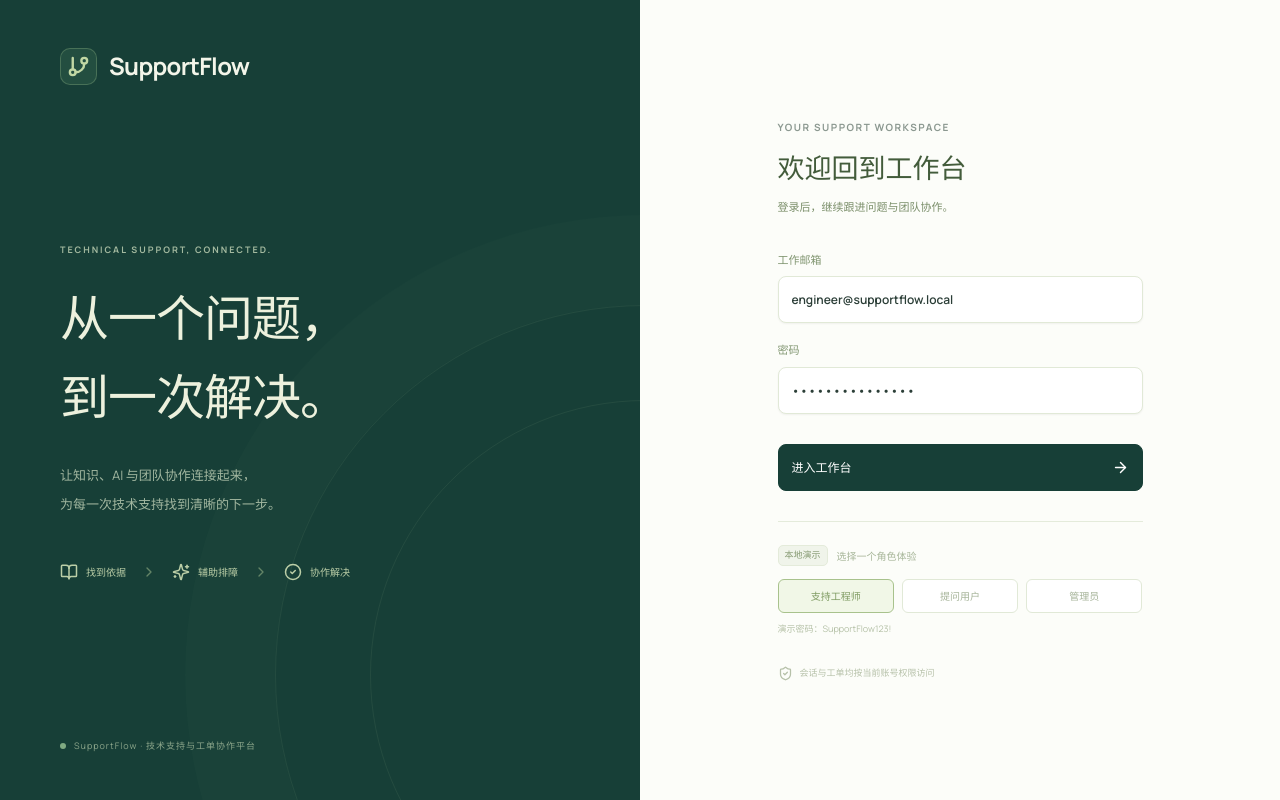
SupportFlow main workflows › logs in and renders actual ticket data
Click the button "进入工作台" at (822, 468), box [778, 444, 1142, 491]
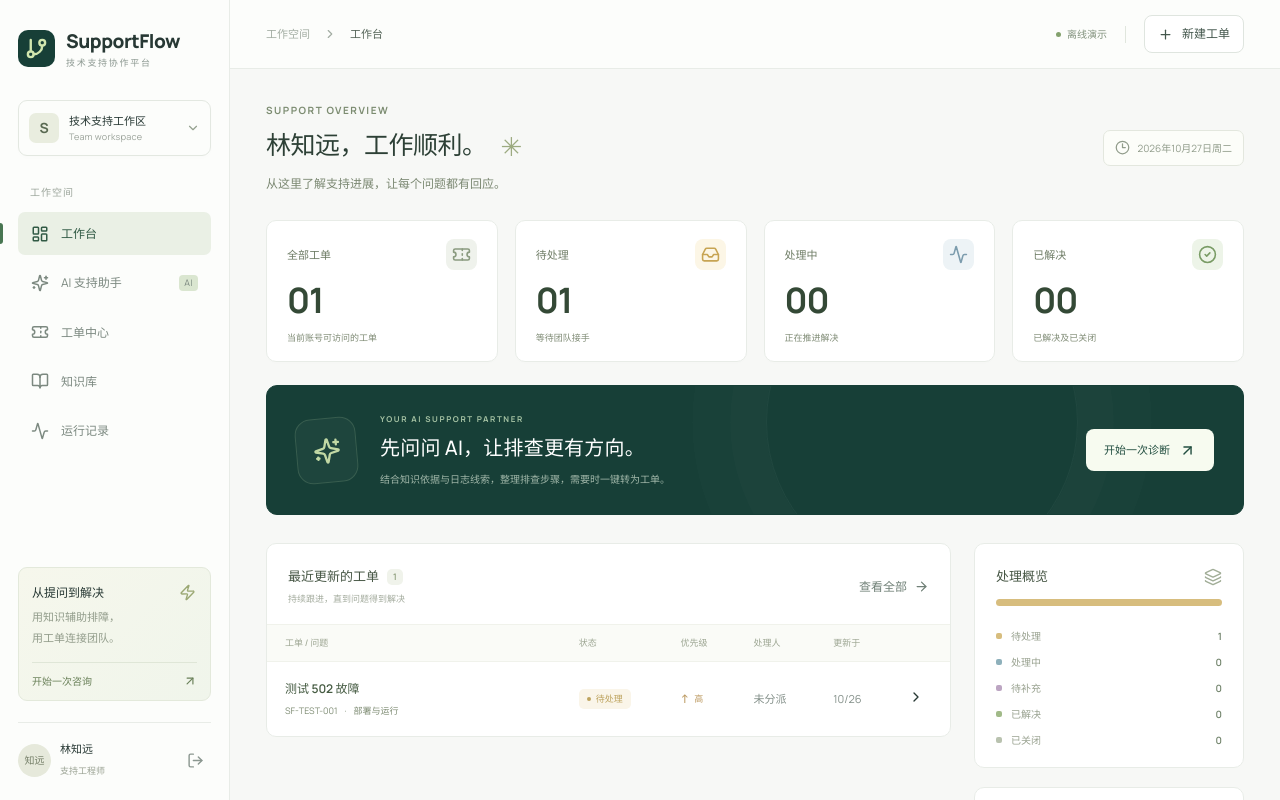
Result: the heading "林知远，工作顺利。 ✳" is shown at [266, 125, 522, 168]
Result: the button "测试 502 故障" is shown at [285, 679, 360, 699]
